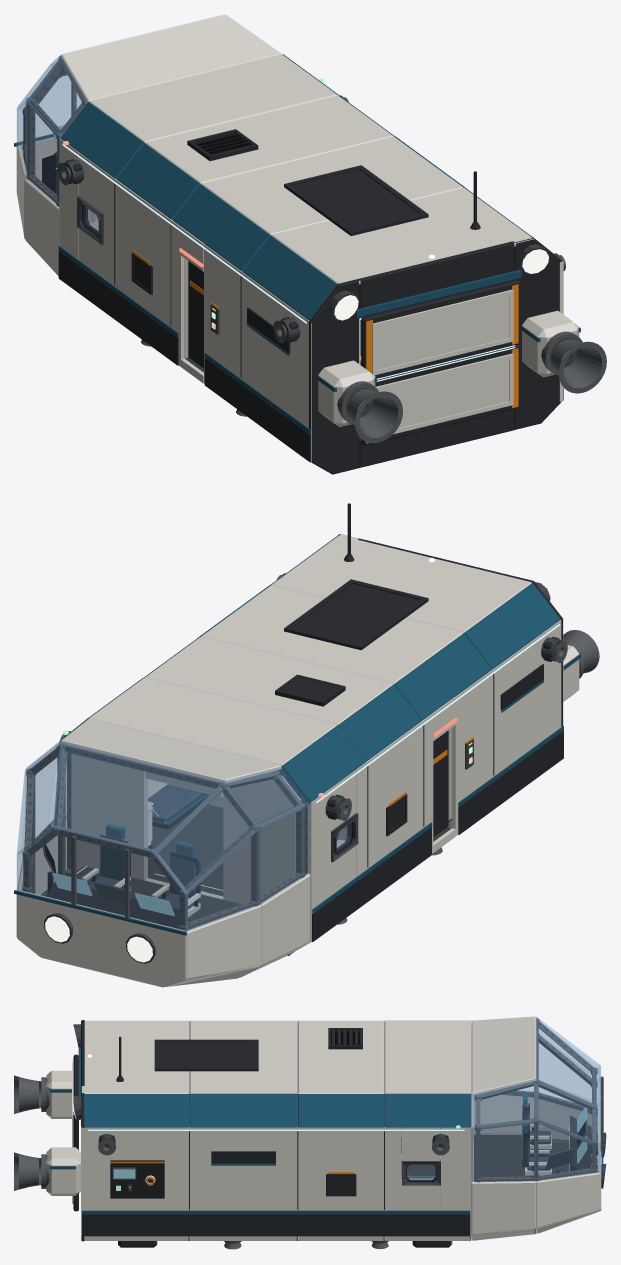
Rendered from kestrel.glb.
3 renders of one model, top to bottom at view 1: azimuth 30°, elevation 25°; view 2: azimuth 150°, elevation 25°; view 3: azimuth 270°, elevation 25°, orthographic. The views are drawn at different scales.
Visible parts, largest first — view 1: _MeshInstance3D_143_126, _MeshInstance3D_113_111, _MeshInstance3D_168_139, _MeshInstance3D_302_245, _MeshInstance3D_133_121, _MeshInstance3D_123_116, _MeshInstance3D_162_136, _MeshInstance3D_916_673, _MeshInstance3D_922_678, _MeshInstance3D_193_152, _MeshInstance3D_1026_749, _MeshInstance3D_197_154 (+31 smaller); view 2: _MeshInstance3D_278_233, _MeshInstance3D_143_126, _MeshInstance3D_113_111, _MeshInstance3D_328_258, _MeshInstance3D_168_139, _MeshInstance3D_133_121, _MeshInstance3D_123_116, _MeshInstance3D_326_257, _MeshInstance3D_162_136, _MeshInstance3D_339_265, _MeshInstance3D_333_262, _MeshInstance3D_302_245 (+39 smaller); view 3: _MeshInstance3D_179_145, _MeshInstance3D_1003_732, _MeshInstance3D_143_126, _MeshInstance3D_113_111, _MeshInstance3D_133_121, _MeshInstance3D_123_116, _MeshInstance3D_302_245, _MeshInstance3D_135_122, _MeshInstance3D_306_247, _MeshInstance3D_145_127, _MeshInstance3D_1026_749, _MeshInstance3D_278_233 (+38 smaller).
Boxes of the visible parts, x1,y1,x2,y2 form: _MeshInstance3D_143_126: [271, 188, 533, 284]; _MeshInstance3D_113_111: [89, 54, 337, 142]; _MeshInstance3D_168_139: [204, 244, 311, 461]; _MeshInstance3D_302_245: [61, 15, 281, 102]; _MeshInstance3D_133_121: [201, 136, 463, 235]; _MeshInstance3D_123_116: [145, 95, 393, 184]; _MeshInstance3D_162_136: [104, 171, 184, 366]; _MeshInstance3D_916_673: [372, 289, 513, 375]; _MeshInstance3D_922_678: [375, 353, 513, 434]; _MeshInstance3D_193_152: [309, 279, 359, 474]; _MeshInstance3D_1026_749: [284, 165, 428, 235]; _MeshInstance3D_197_154: [358, 241, 514, 317]; _MeshInstance3D_278_233: [51, 741, 224, 852]; _MeshInstance3D_143_126: [271, 534, 531, 632]; _MeshInstance3D_113_111: [89, 677, 337, 765]; _MeshInstance3D_328_258: [17, 825, 187, 931]; _MeshInstance3D_168_139: [452, 618, 563, 835]; _MeshInstance3D_133_121: [201, 585, 463, 683]; _MeshInstance3D_123_116: [145, 637, 393, 724]; _MeshInstance3D_326_257: [17, 890, 187, 987]; _MeshInstance3D_162_136: [356, 713, 433, 876]; _MeshInstance3D_339_265: [71, 753, 147, 880]; _MeshInstance3D_333_262: [223, 779, 295, 903]; _MeshInstance3D_302_245: [61, 719, 281, 783]; _MeshInstance3D_179_145: [81, 1126, 401, 1235]; _MeshInstance3D_1003_732: [82, 1214, 470, 1236]; _MeshInstance3D_143_126: [81, 1020, 189, 1093]; _MeshInstance3D_113_111: [384, 1020, 471, 1093]; _MeshInstance3D_133_121: [189, 1020, 297, 1093]; _MeshInstance3D_123_116: [298, 1020, 384, 1093]; _MeshInstance3D_302_245: [471, 1016, 536, 1095]; _MeshInstance3D_135_122: [189, 1093, 297, 1127]; _MeshInstance3D_306_247: [471, 1121, 535, 1181]; _MeshInstance3D_145_127: [84, 1094, 189, 1127]; _MeshInstance3D_1026_749: [154, 1039, 258, 1071]; _MeshInstance3D_278_233: [536, 1017, 600, 1104].
Bounding box in the file's own units: 5.82 × 5.11 × 13.68.
96 materials, 2 textured.
